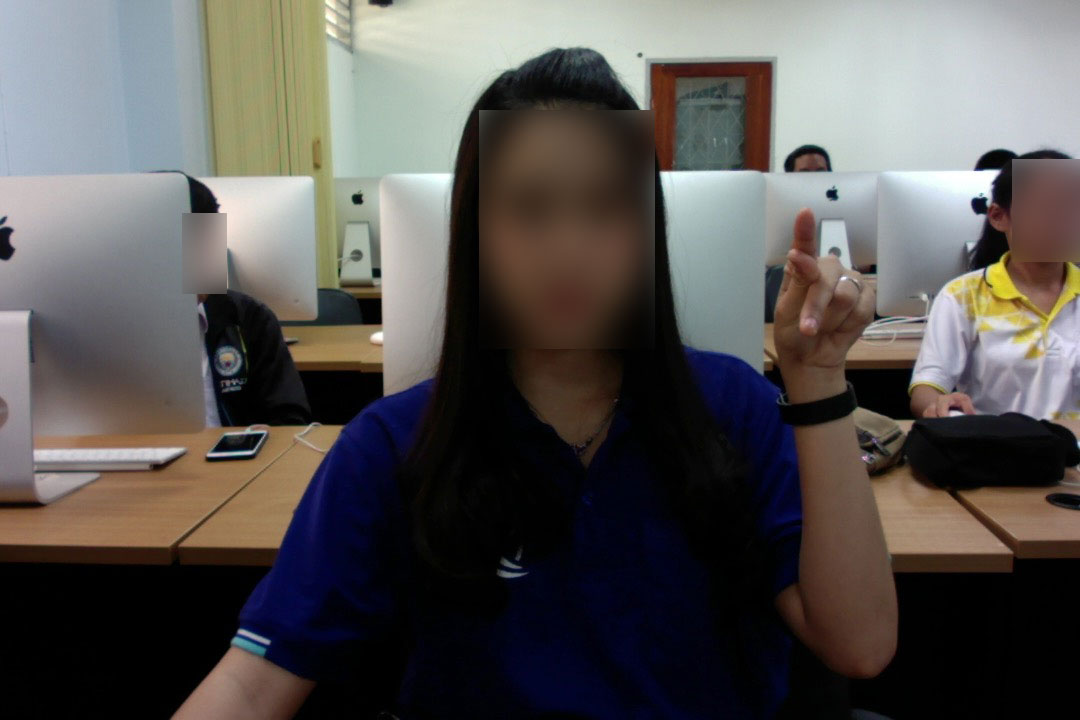por: (765, 204, 882, 380)
